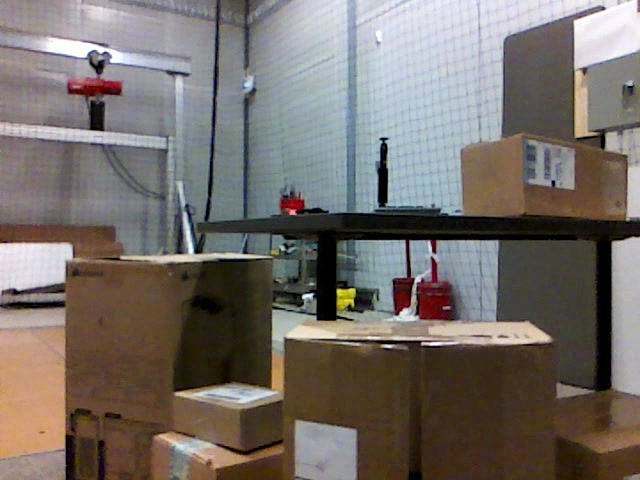box: (66, 254, 272, 480), (285, 322, 557, 480), (460, 135, 627, 218), (171, 381, 284, 453), (559, 389, 640, 479), (152, 431, 282, 480)
